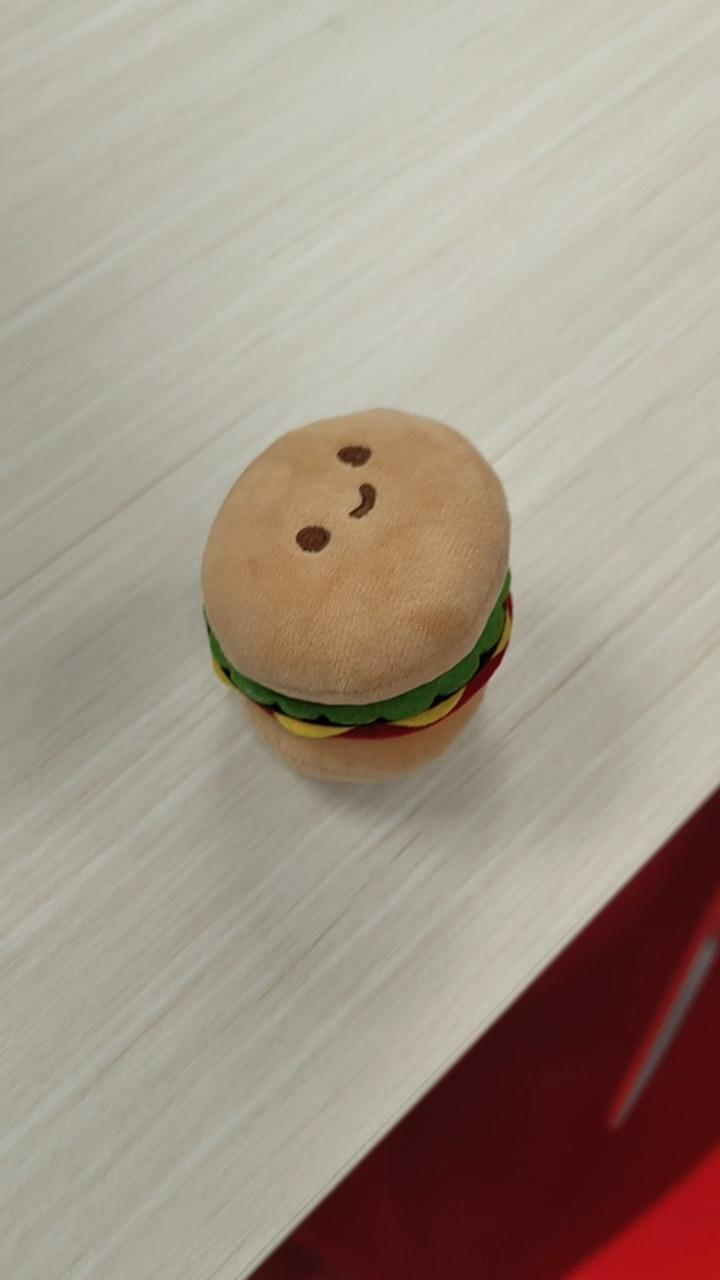hamburger: (199, 405, 514, 785)
